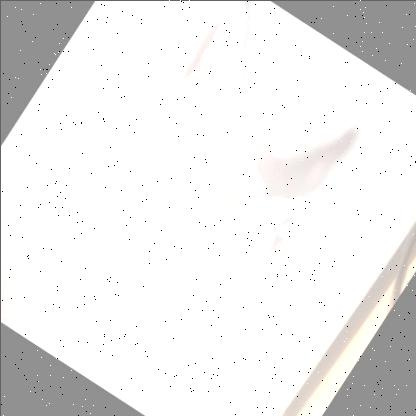Others: (84, 0, 320, 360)
